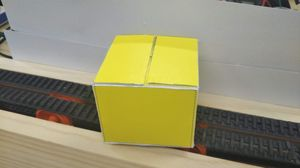box4: (91, 32, 200, 154)
